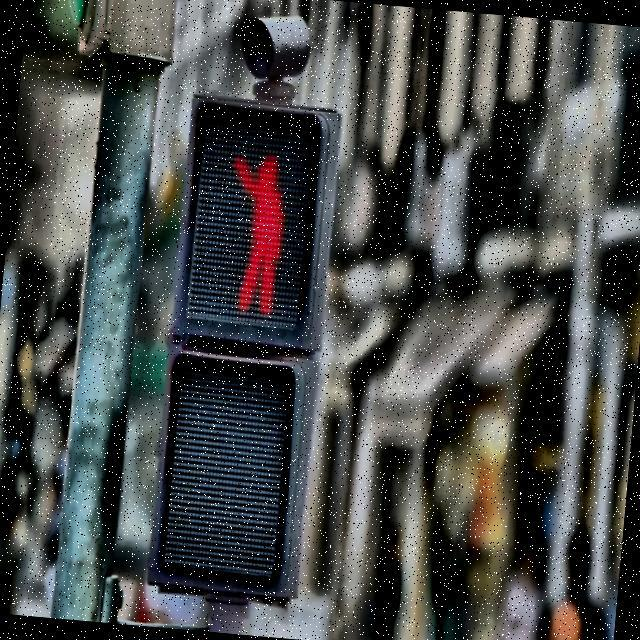red_light: (217, 140, 294, 320)
